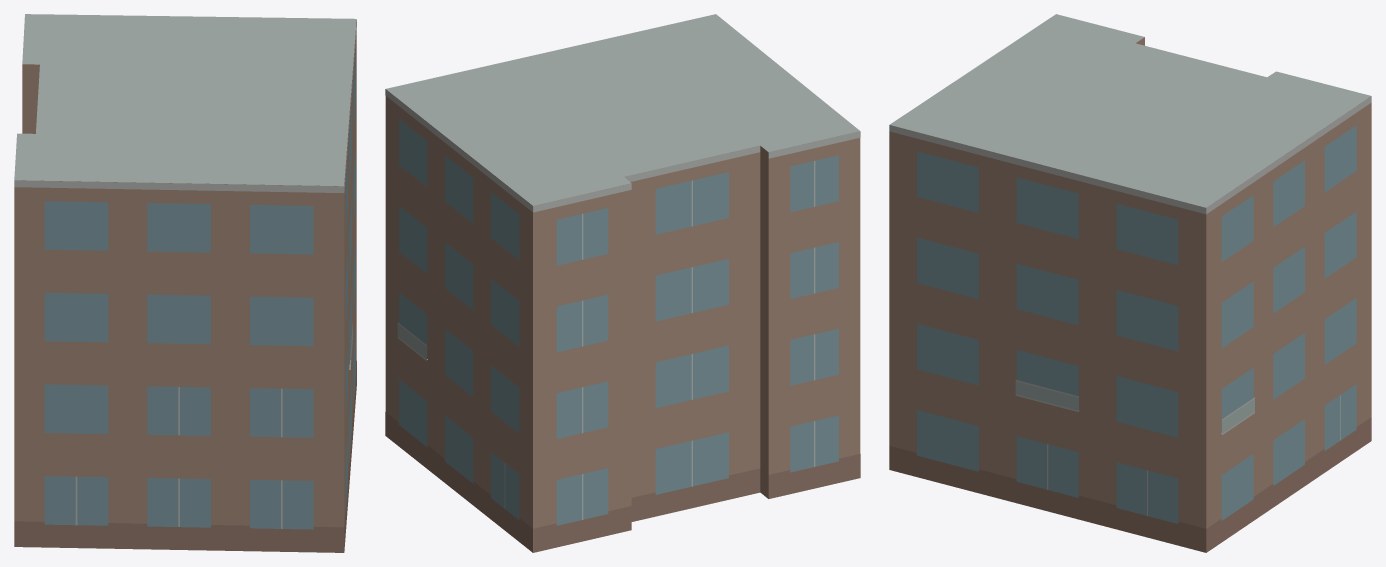
The model's file is survey-upis-32680211.glb.
The picture shows the model from 3 angles, left to right: view 1: azimuth 30°, elevation 25°; view 2: azimuth 150°, elevation 25°; view 3: azimuth 270°, elevation 25°; orthographic projection. The views are drawn at different scales.
Parts seen in each view (by area): view 1: survey-upis-32680211.tmp; view 2: survey-upis-32680211.tmp; view 3: survey-upis-32680211.tmp.
Boxes of the visible parts, x1,y1,x2,y2 form: survey-upis-32680211.tmp: [14, 14, 356, 552]; survey-upis-32680211.tmp: [385, 14, 860, 552]; survey-upis-32680211.tmp: [889, 14, 1371, 552].
Bounding box in the file's own units: 15.56 × 12.9 × 16.35.
